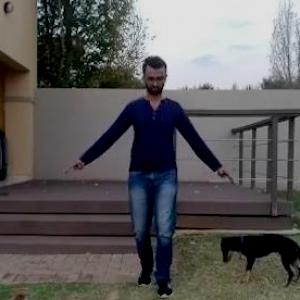land: (78, 71, 215, 288)
